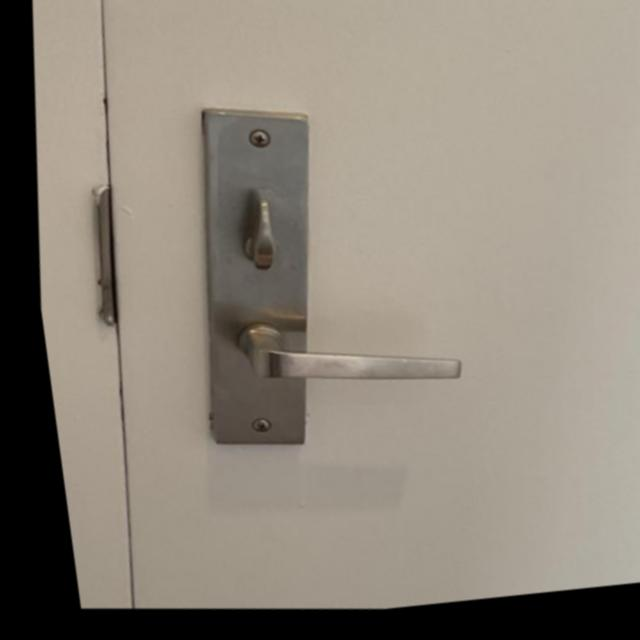door_handle: (200, 300, 473, 426)
